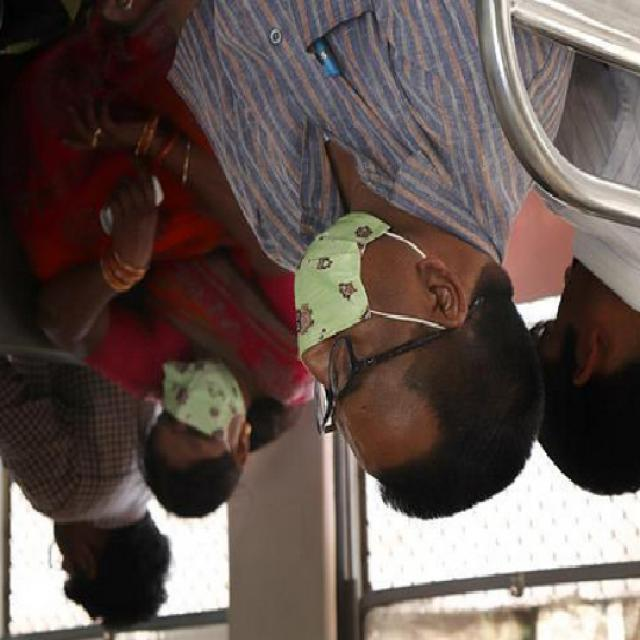Mask: (290, 205, 450, 368), (158, 354, 250, 452)
